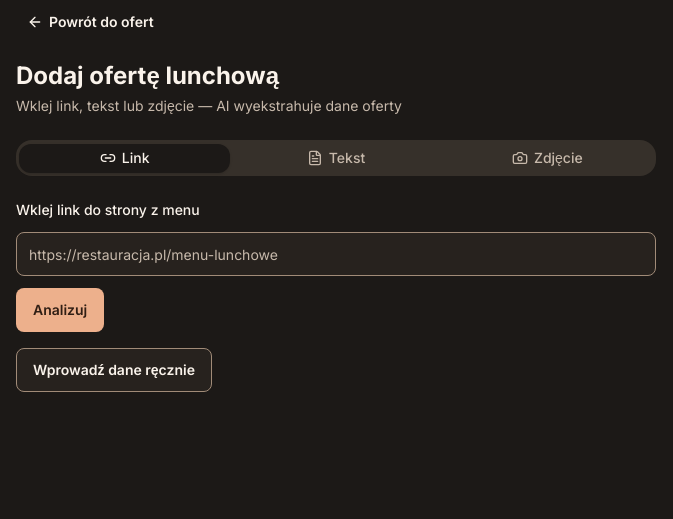
Test: retains the original text and input mode after an analysis failure
Press the mouse on the tab "Tekst" at (336, 158), box [230,144,442,172]
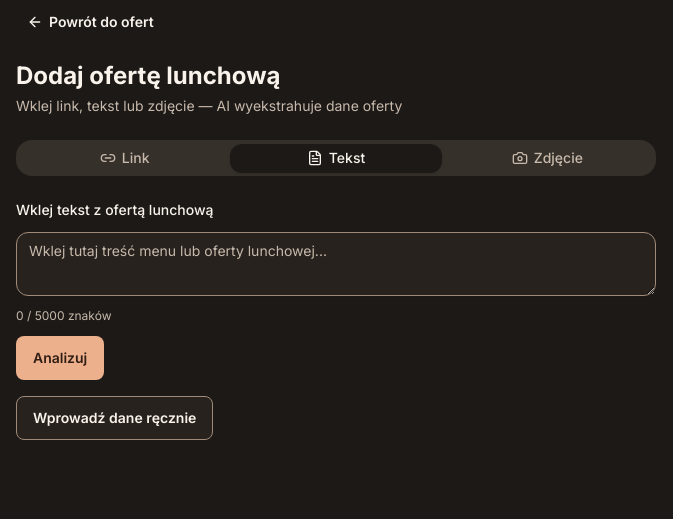
Type "Restauracja: Pizza Si. Lunch: Margherita, 34 zł." into the text box labelled "Wklej tekst z ofertą lunchową" at (336, 264), box [16,232,656,296]
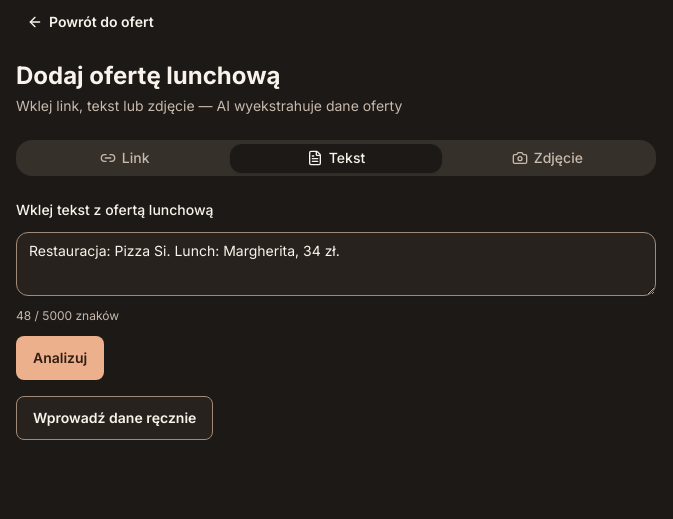
Click the button "Analizuj" at (60, 358), box [16,336,104,380]
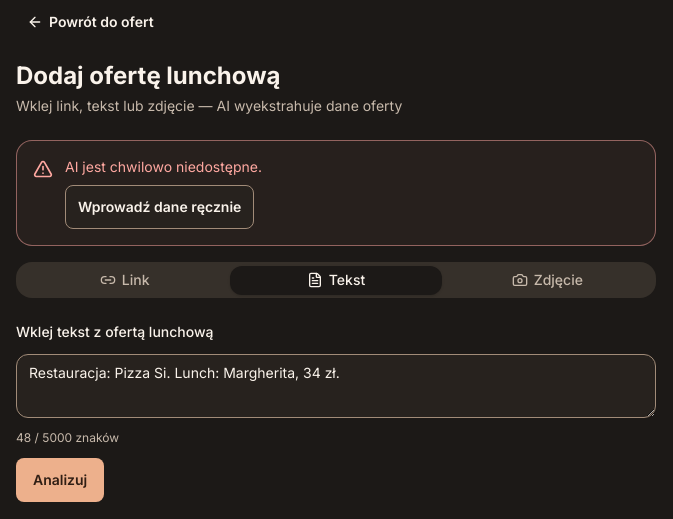
expect the text "AI jest chwilowo niedostępne." is shown: met, box [65,157,262,177]
